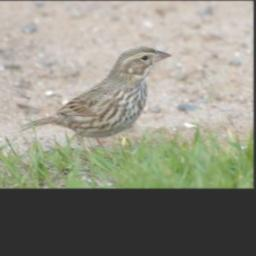Sparrow: (19, 42, 174, 172)
